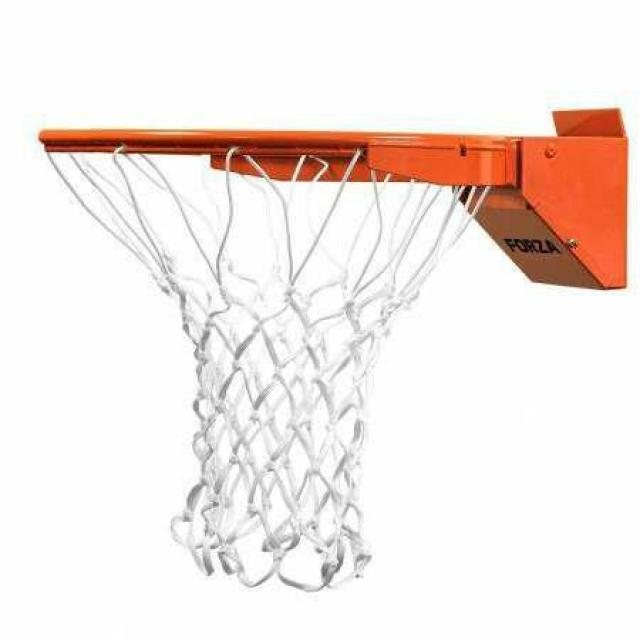hoop: (38, 128, 515, 592)
